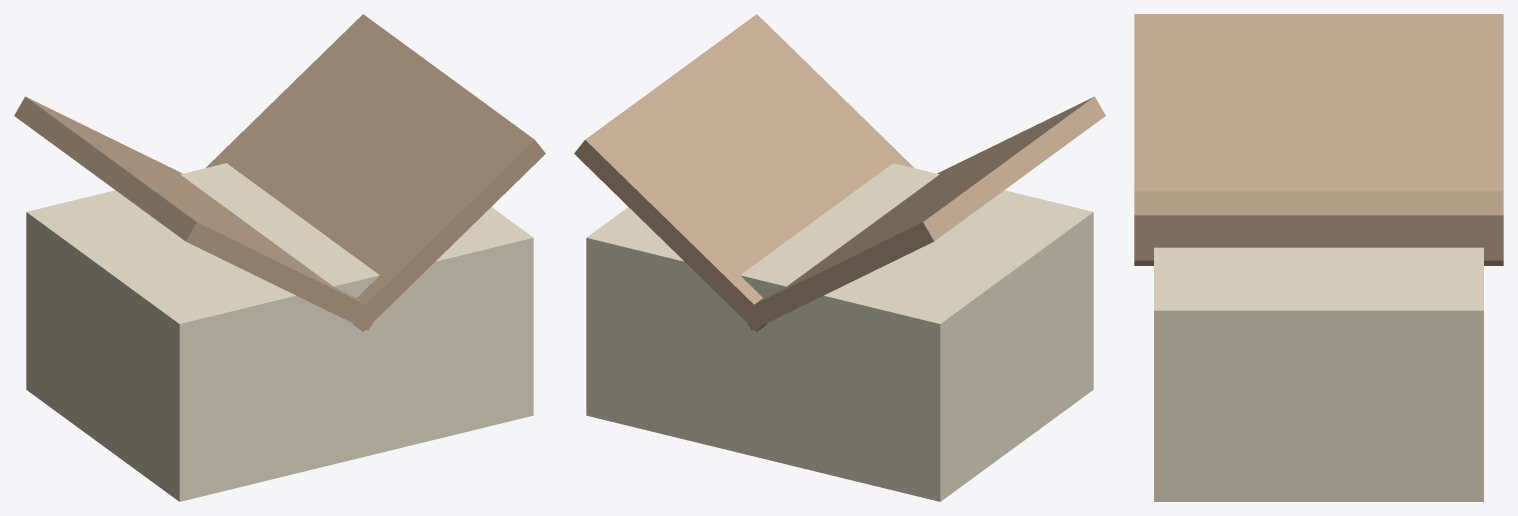
3 views of the same model, side by side, from view 1: azimuth 30°, elevation 25°; view 2: azimuth 150°, elevation 25°; view 3: azimuth 270°, elevation 25° (orthographic). The views are drawn at different scales.
Visible parts, largest first — view 1: walls, roof-right, roof-left; view 2: walls, roof-right, roof-left; view 3: walls, roof-left, roof-right.
Boxes of the visible parts, <box> form: walls: <box>26,163,533,501</box>; roof-right: <box>206,14,545,331</box>; roof-left: <box>14,96,379,330</box>; walls: <box>586,163,1093,501</box>; roof-right: <box>574,14,913,331</box>; roof-left: <box>740,96,1105,330</box>; walls: <box>1154,247,1483,501</box>; roof-left: <box>1134,14,1503,265</box>; roof-right: <box>1134,191,1503,260</box>.
Size of the model in its own units: 10.18 by 7.68 by 8.4.
